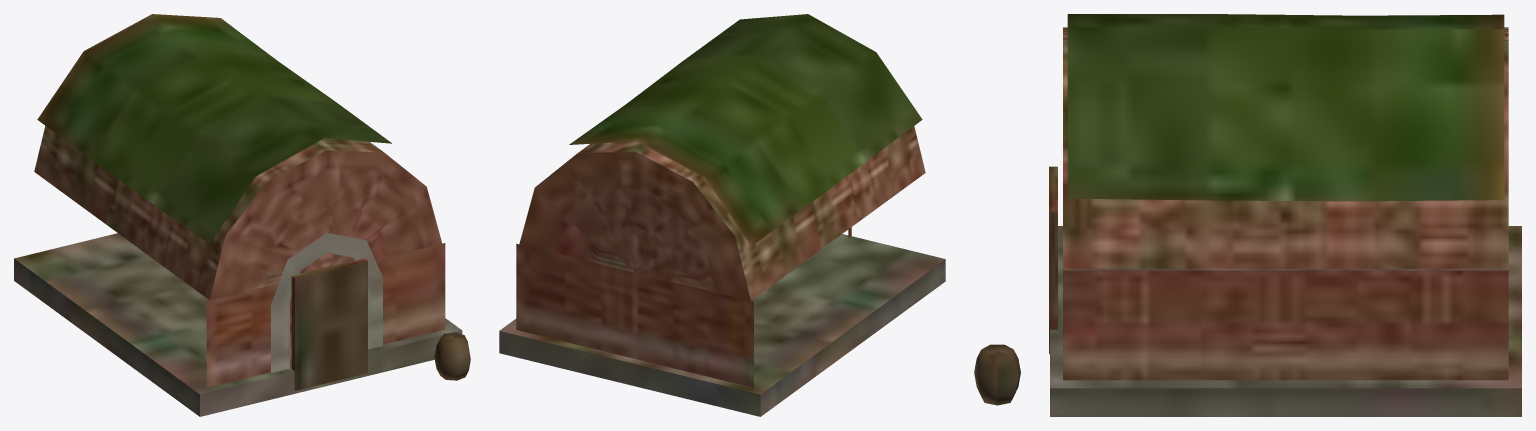
Rendered from starfort_powder_store_far.glb.
3 views of the same model, side by side, from view 1: azimuth 30°, elevation 25°; view 2: azimuth 150°, elevation 25°; view 3: azimuth 270°, elevation 25° (orthographic). The views are drawn at different scales.
Parts seen in each view (by area): view 1: intact, door, barrel_01; view 2: intact; view 3: intact, barrel_01, door.
Part boxes in pixels (<box>): intact: <box>14,14,462,416</box>; door: <box>291,258,367,390</box>; barrel_01: <box>434,332,470,380</box>; intact: <box>499,14,945,416</box>; intact: <box>1050,14,1521,416</box>; barrel_01: <box>974,344,1020,405</box>; door: <box>1049,166,1057,354</box>.
Size of what is drawn, in the model's own units: 4.4 by 3.88 by 6.27.
1 material, 1 textured.
